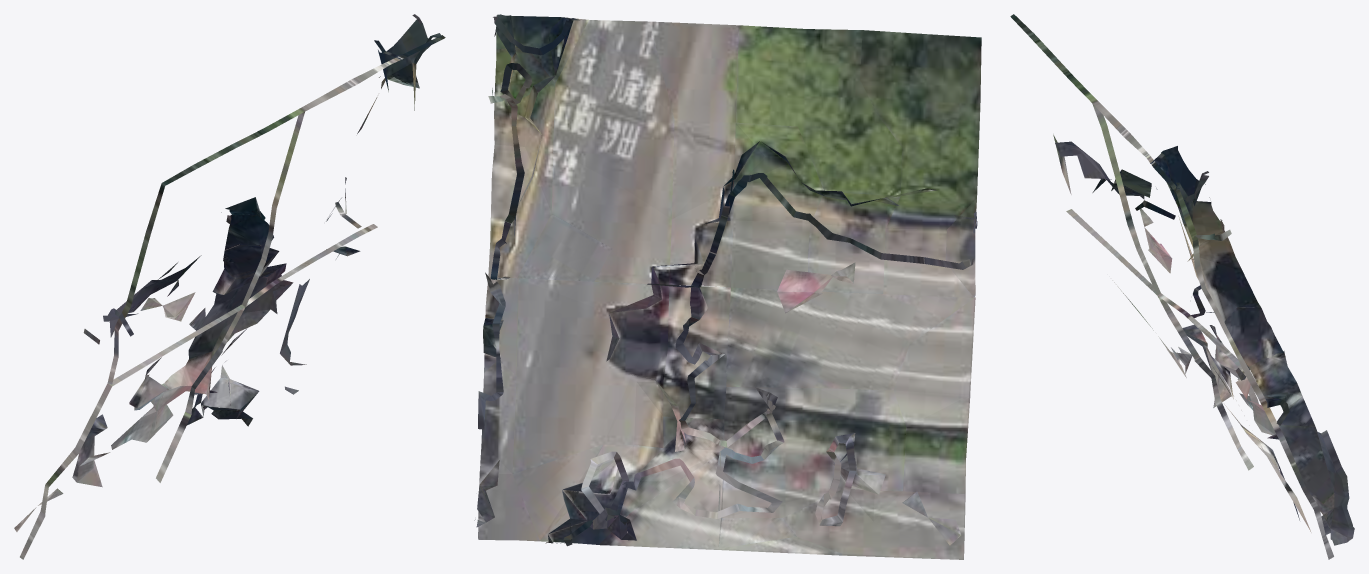
File: AJVsH2y56LgQ0G6oPsW_erRvuKhu-6ubvP8BQoyH86NL9RThOYdBCC2Qgl3REIJVh_aUNBeJosraslJagdjAVZKUPW6JdKqWhWZvXNg9xE2Ot7AlEuheWsJZZ3Qd-P5G7xEQWc4xJr7CDhcEkxYNVrgvTP7Y.glb
3 views of the same model, side by side, from view 1: azimuth 30°, elevation 25°; view 2: azimuth 150°, elevation 25°; view 3: azimuth 270°, elevation 25° (orthographic). The views are drawn at different scales.
Bounding box in the file's own units: 38.69 × 36.72 × 27.96.
1 material, 1 textured.
